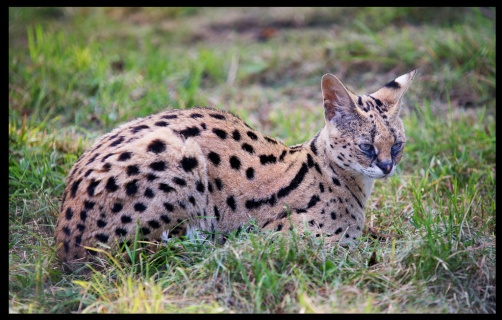Cat: (53, 67, 418, 272)
